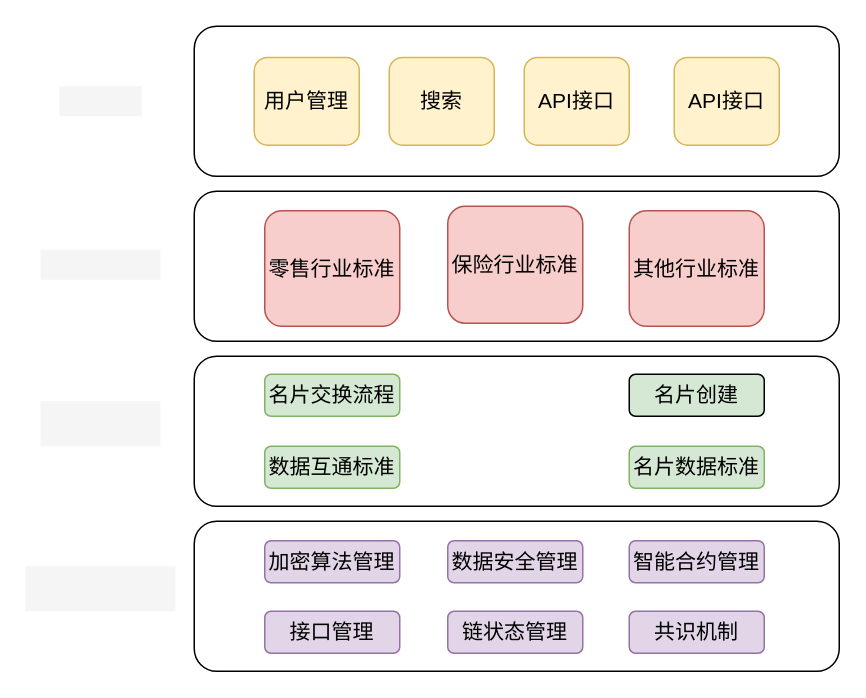
Some shapes in this 866 by 698 pixel diagram are drawn without their labels. Here are the shapes that lost their labels. From the top down, the centre of each, then its label:
At point (99, 101): "应用层".
At point (100, 264): "行业标准层".
At point (100, 423): "基础应用层 （有传）".
At point (100, 588): "区块链层 （微趣）".
